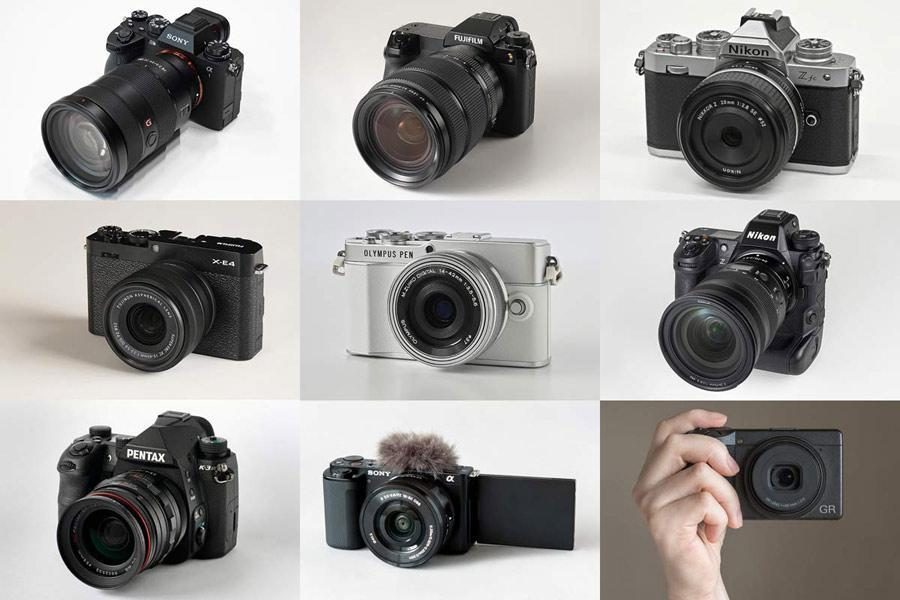degital-camera: (628, 4, 866, 197), (40, 10, 247, 196), (339, 11, 542, 188), (329, 221, 560, 372), (57, 408, 244, 591), (648, 206, 831, 390), (78, 218, 269, 383), (314, 427, 483, 578), (683, 424, 851, 525)
